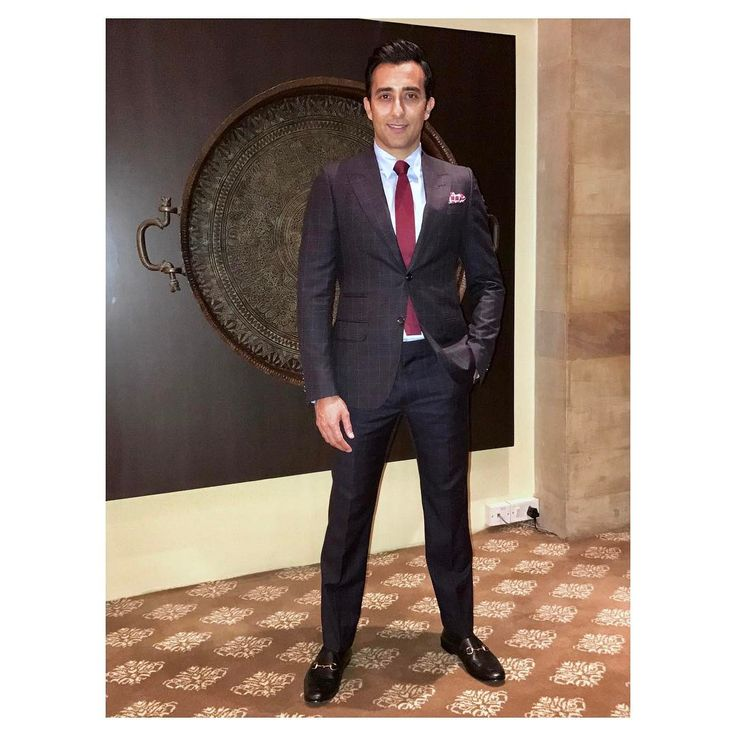blazer: (300, 148, 499, 385)
pant: (295, 340, 518, 649)
